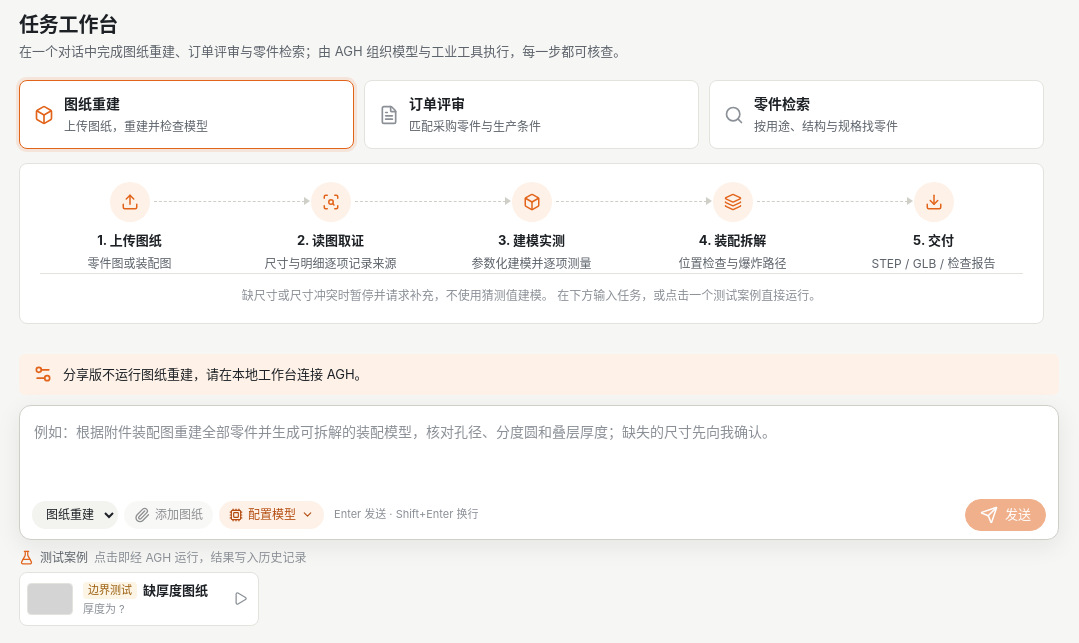
Scenario: TaskWorkspace input and execution evidence › labels browser tools explicitly and blocks preview reconstruction
The image size is (1079, 643).
Type "请重建" into the text box named "这次需要完成什么？" at (539, 454), box [32,416,1046,493]
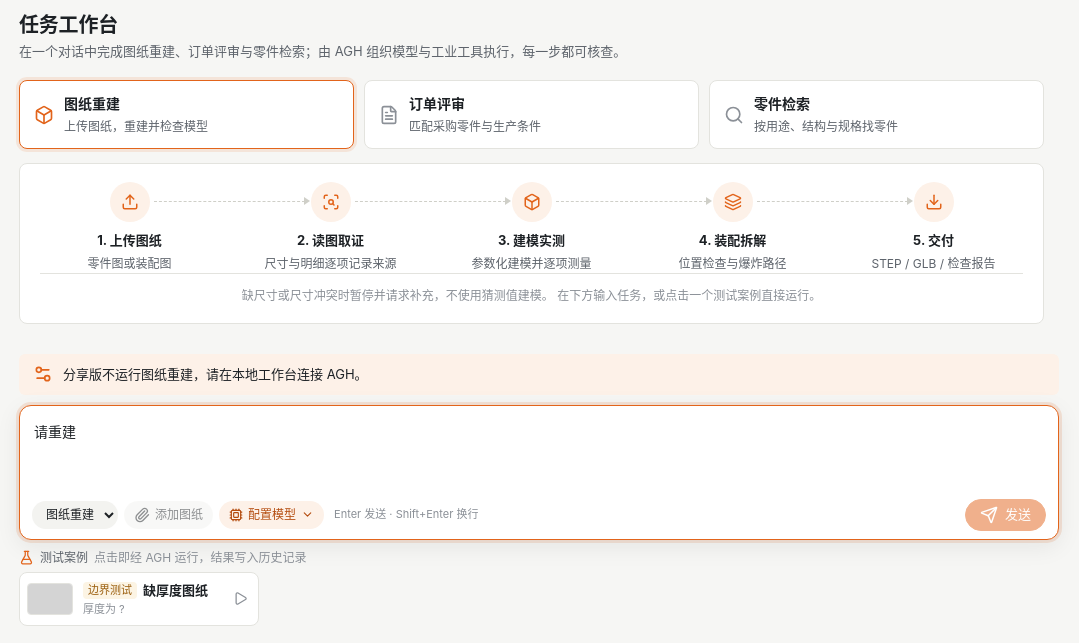
Expected: the button with aria-label "开始任务" is disabled, [965,499,1046,531]
Select "零件检索" in the dropdown named "任务类型" at (75, 515), box [32,501,118,529]
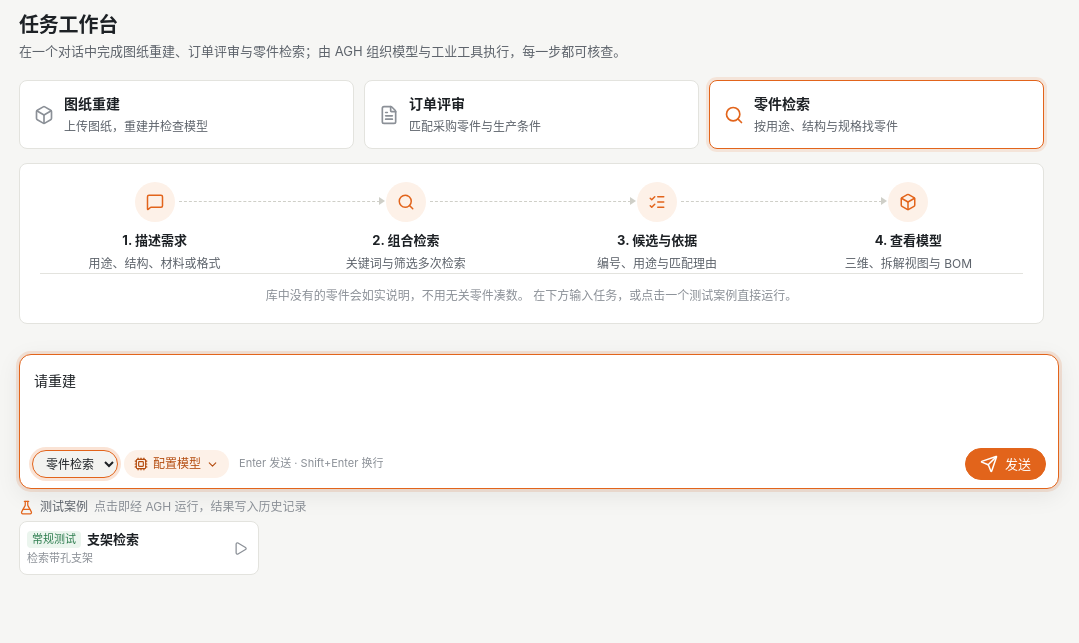
Click the button with aria-label "开始任务" at (1006, 464), box [965,448,1046,480]
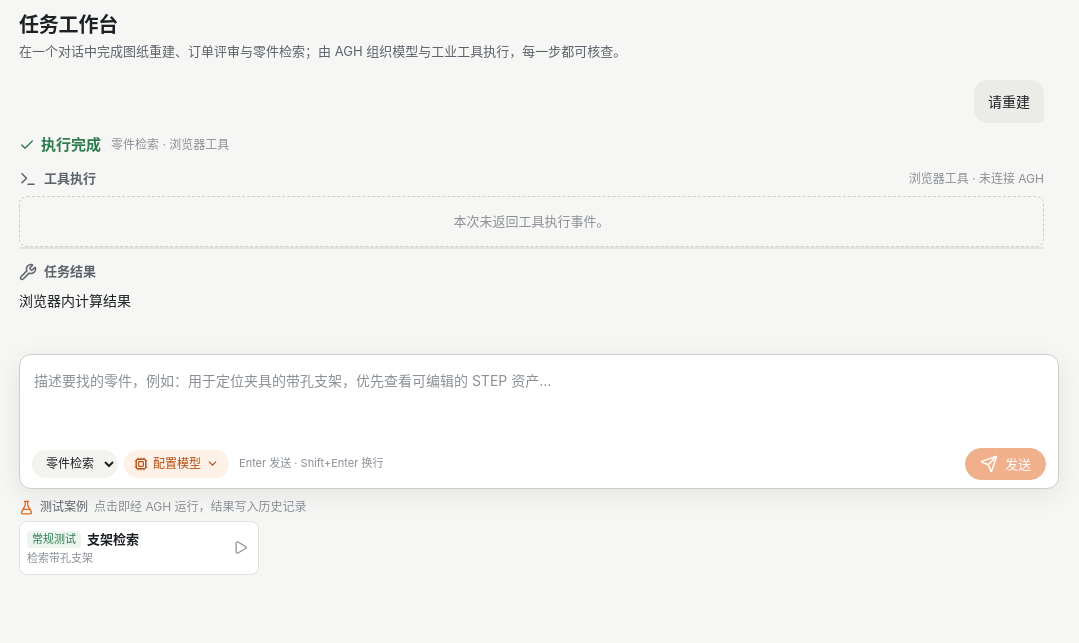
Now the text "浏览器内计算结果" is shown, box [19,292,131,309]
Now the text "浏览器工具 · 未连接 AGH" is shown, box [909,169,1044,188]
